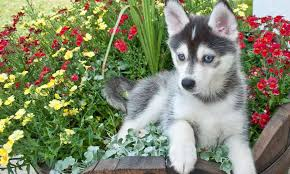dog: (98, 3, 260, 174)
